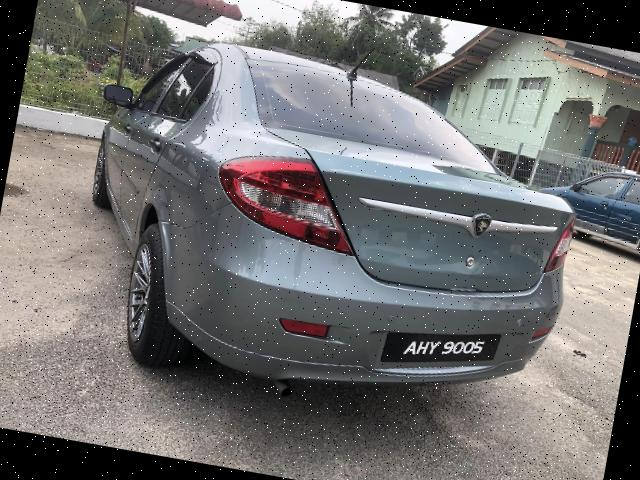License_Plate: (393, 318, 492, 391)
car: (51, 18, 600, 445)
